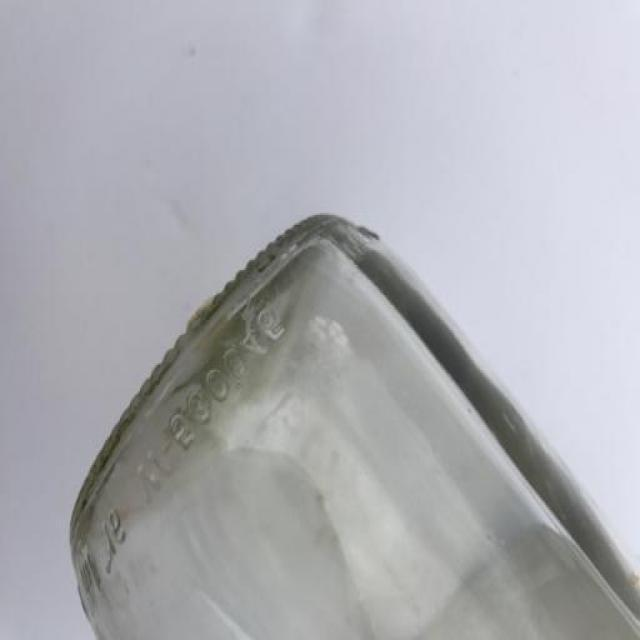glass: (66, 206, 640, 640)
